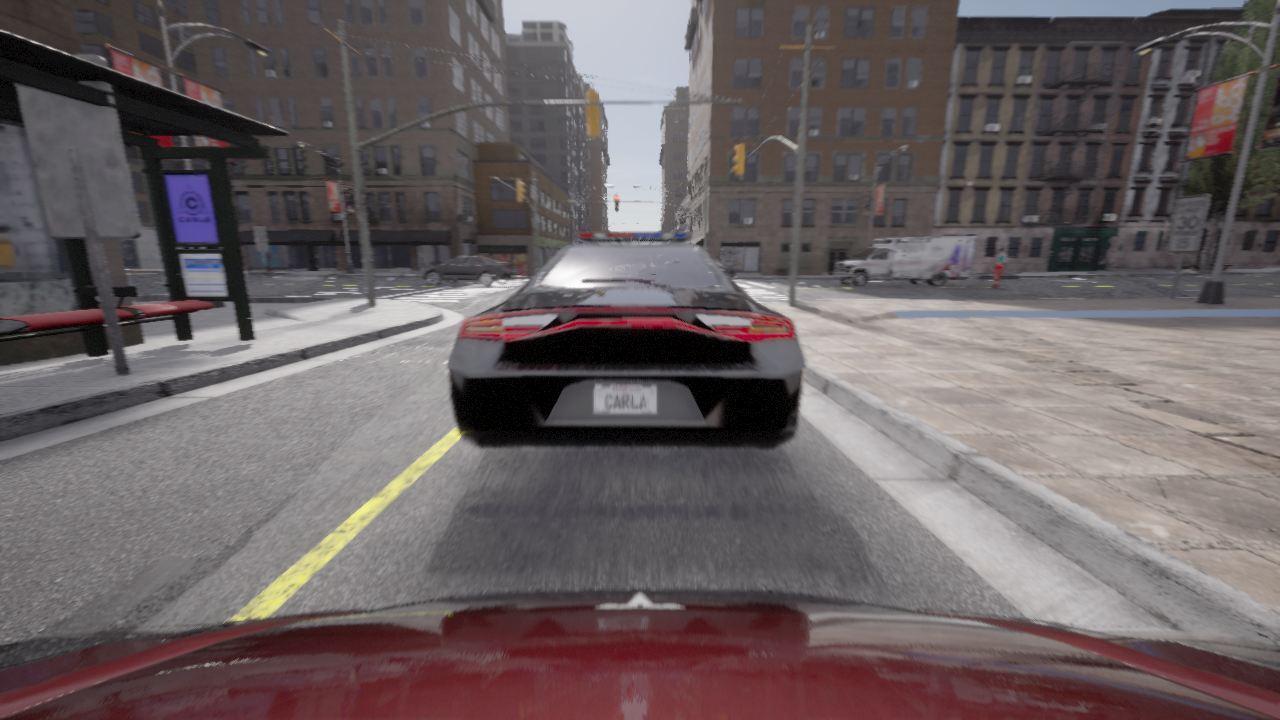cyclist: (0, 588, 1279, 719), (446, 232, 806, 448), (834, 236, 974, 286), (421, 255, 517, 286), (714, 259, 734, 279)
pedestrian: (990, 247, 1005, 288)
